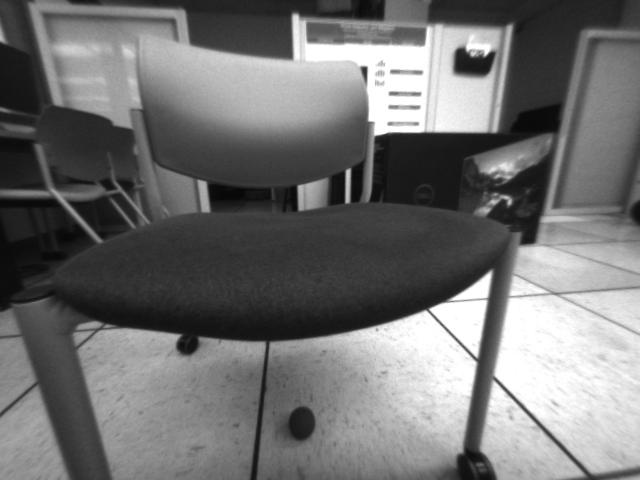dogtoy: (281, 398, 325, 446)
